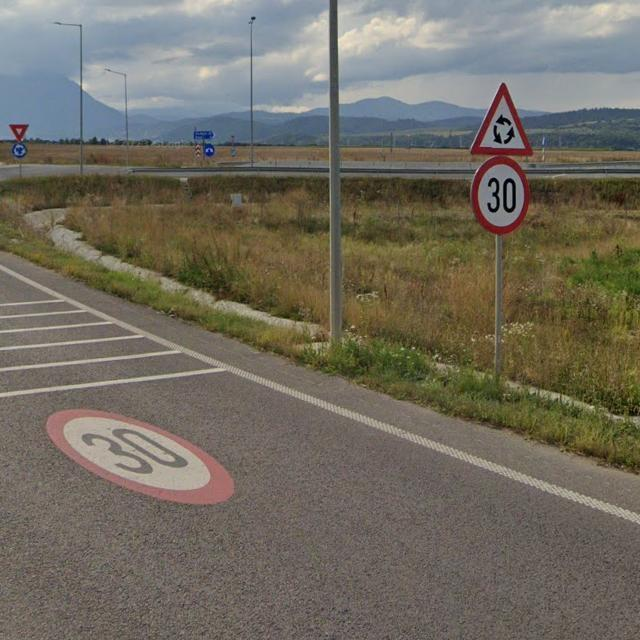forb_speed_over_30: (46, 411, 238, 504), (472, 157, 532, 234)
prio_give_way: (8, 124, 29, 141)
